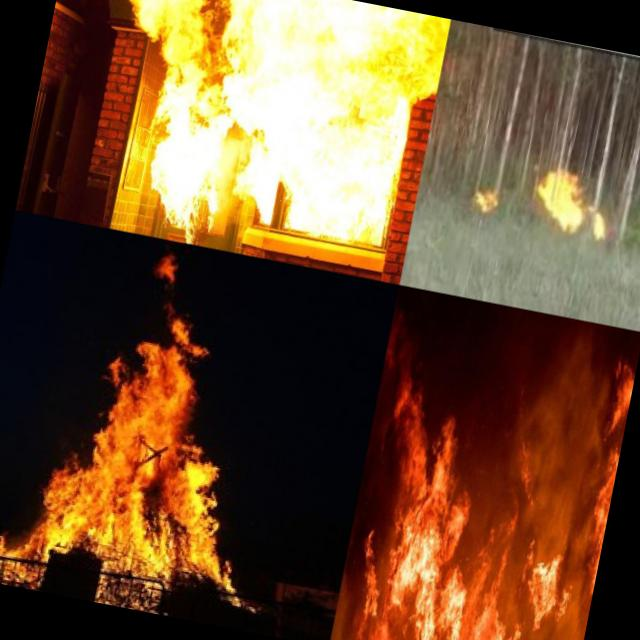fire: (0, 224, 301, 602), (81, 0, 451, 269), (339, 373, 604, 640), (554, 351, 639, 640), (528, 166, 621, 242), (466, 170, 520, 227)
